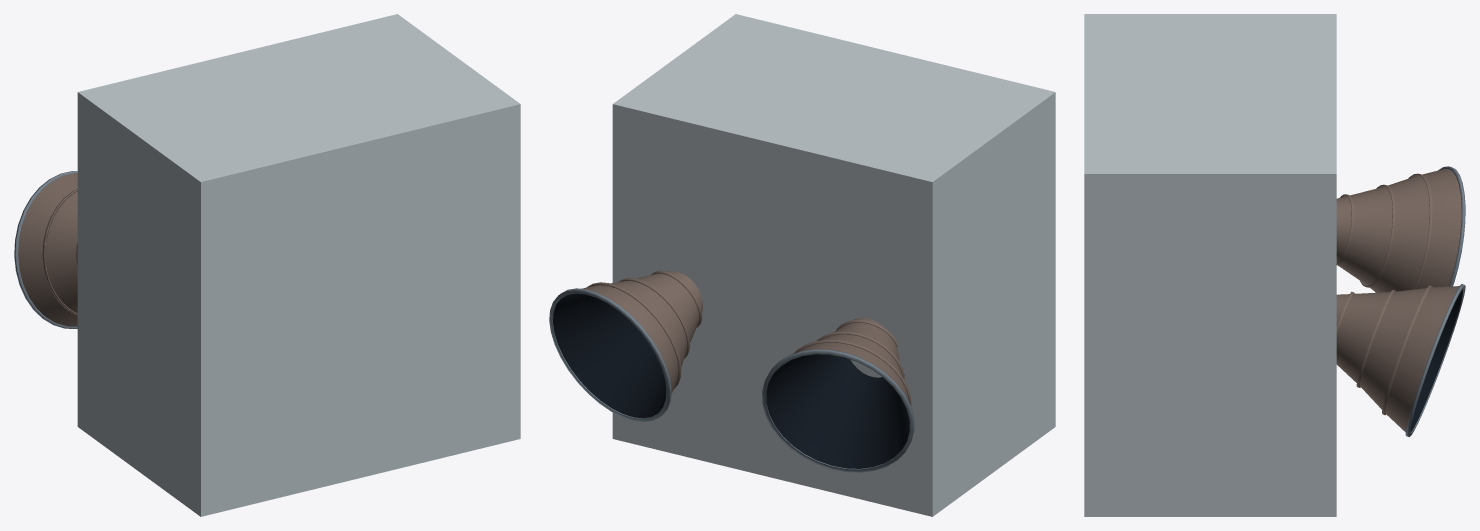
The model's file is dart_hydrazine_thrusters.glb.
3 renders of one model, left to right at view 1: azimuth 30°, elevation 25°; view 2: azimuth 150°, elevation 25°; view 3: azimuth 270°, elevation 25°, orthographic. The views are drawn at different scales.
Visible parts, largest first — view 1: dart_propulsionhydrazine_cluster_01mesh_Satin_aluminum, dart_propulsionhydrazine_cluster_01thruster_01bellmesh_Heat-, dart_propulsionhydrazine_cluster_01thruster_01bellmesh_Machi; view 2: dart_propulsionhydrazine_cluster_01mesh_Satin_aluminum, dart_propulsionhydrazine_cluster_01thruster_01bellmesh_Shado, dart_propulsionhydrazine_cluster_01thruster_02bellmesh_Shado, dart_propulsionhydrazine_cluster_01thruster_02bellmesh_Heat-, dart_propulsionhydrazine_cluster_01thruster_01bellmesh_Heat-, dart_propulsionhydrazine_cluster_01thruster_01bellmesh_Machi, dart_propulsionhydrazine_cluster_01thruster_02bellmesh_Machi; view 3: dart_propulsionhydrazine_cluster_01mesh_Satin_aluminum, dart_propulsionhydrazine_cluster_01thruster_01bellmesh_Heat-, dart_propulsionhydrazine_cluster_01thruster_02bellmesh_Heat-, dart_propulsionhydrazine_cluster_01thruster_02bellmesh_Shado, dart_propulsionhydrazine_cluster_01thruster_02bellmesh_Machi, dart_propulsionhydrazine_cluster_01thruster_01bellmesh_Machi.
Part boxes in pixels (box(x1,y1,x2,y2)): dart_propulsionhydrazine_cluster_01mesh_Satin_aluminum: box(77, 14, 520, 516); dart_propulsionhydrazine_cluster_01thruster_01bellmesh_Heat-: box(18, 173, 77, 326); dart_propulsionhydrazine_cluster_01thruster_01bellmesh_Machi: box(14, 171, 77, 328); dart_propulsionhydrazine_cluster_01mesh_Satin_aluminum: box(612, 14, 1055, 516); dart_propulsionhydrazine_cluster_01thruster_01bellmesh_Shado: box(766, 354, 909, 468); dart_propulsionhydrazine_cluster_01thruster_02bellmesh_Shado: box(553, 293, 666, 418); dart_propulsionhydrazine_cluster_01thruster_02bellmesh_Heat-: box(581, 270, 702, 393); dart_propulsionhydrazine_cluster_01thruster_01bellmesh_Heat-: box(793, 317, 911, 405); dart_propulsionhydrazine_cluster_01thruster_01bellmesh_Machi: box(762, 349, 914, 472); dart_propulsionhydrazine_cluster_01thruster_02bellmesh_Machi: box(549, 288, 671, 422); dart_propulsionhydrazine_cluster_01mesh_Satin_aluminum: box(1084, 14, 1336, 516); dart_propulsionhydrazine_cluster_01thruster_01bellmesh_Heat-: box(1336, 168, 1461, 292); dart_propulsionhydrazine_cluster_01thruster_02bellmesh_Heat-: box(1336, 285, 1459, 431); dart_propulsionhydrazine_cluster_01thruster_02bellmesh_Shado: box(1410, 289, 1463, 432); dart_propulsionhydrazine_cluster_01thruster_02bellmesh_Machi: box(1405, 284, 1465, 437); dart_propulsionhydrazine_cluster_01thruster_01bellmesh_Machi: box(1438, 166, 1465, 286).
Bounding box in the file's own units: 0.187 × 0.165 × 0.1662.
